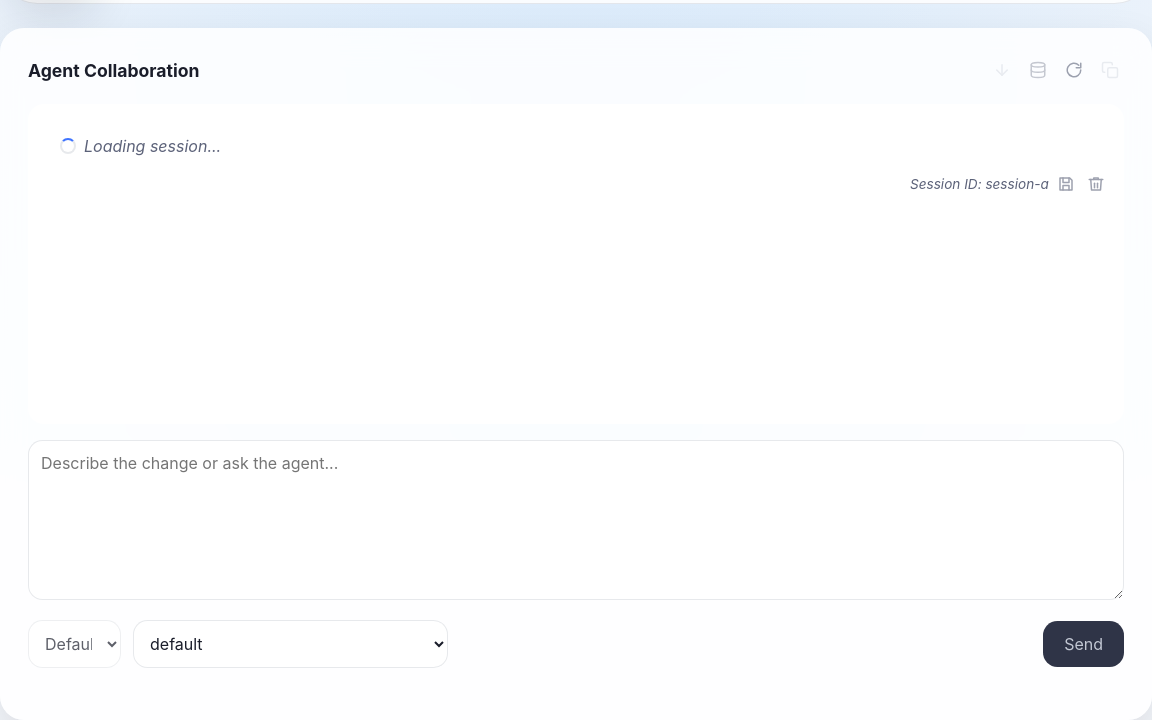
it: RepositoryPage lifecycle guards › Send NOT disabled while history loading (sessionLoading no longer gates send)
(page scrolled)
Type "test" into the text box with placeholder "Describe the change or ask the agent...".
click(576, 520); type("test")  # box [28, 440, 1124, 600]
(page scrolled)
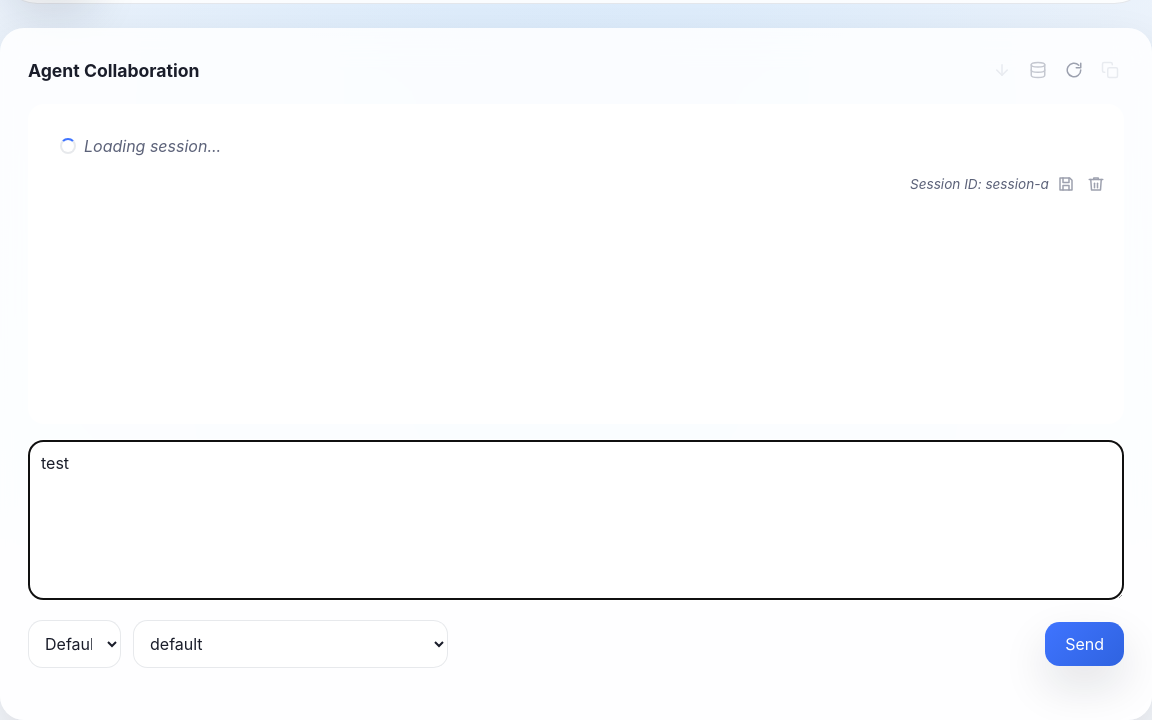
Now the button "Send" is enabled, box [1045, 622, 1124, 666]
